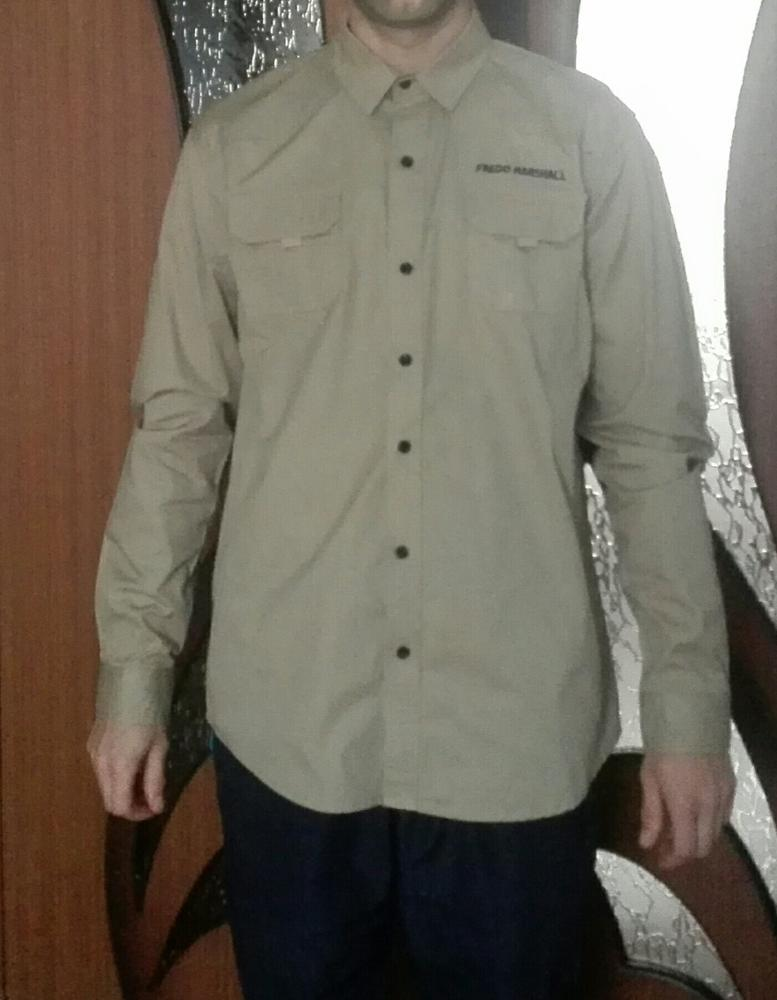shirts: (97, 44, 736, 830)
